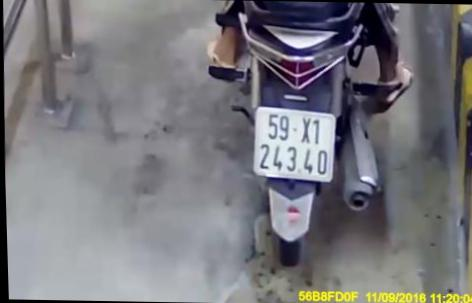LP: (249, 104, 337, 183)
